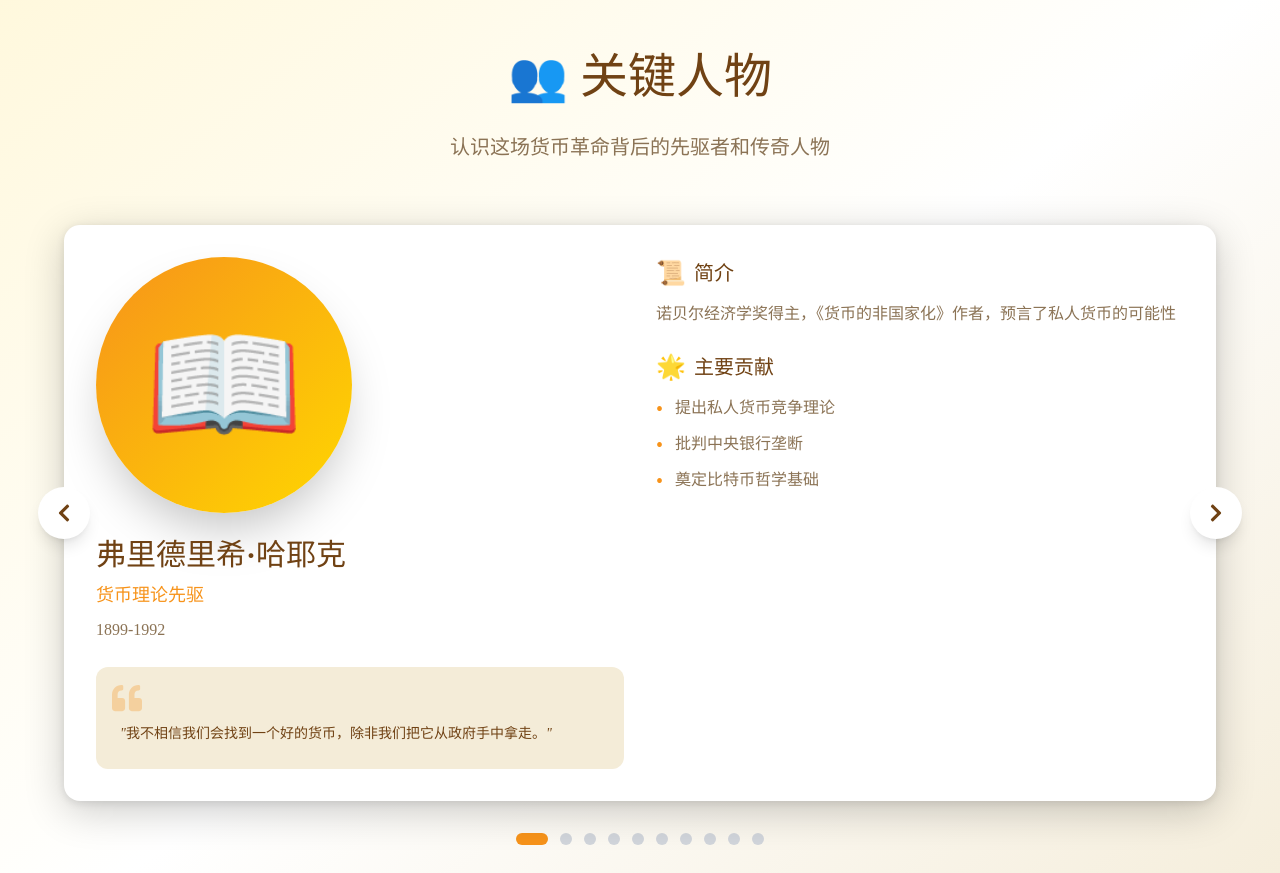
FiguresGallery › navigates to previous figure on prev button click
Click the button named "上一位人物".
click(64, 513)  # box [38,487,90,539]
(page scrolled)
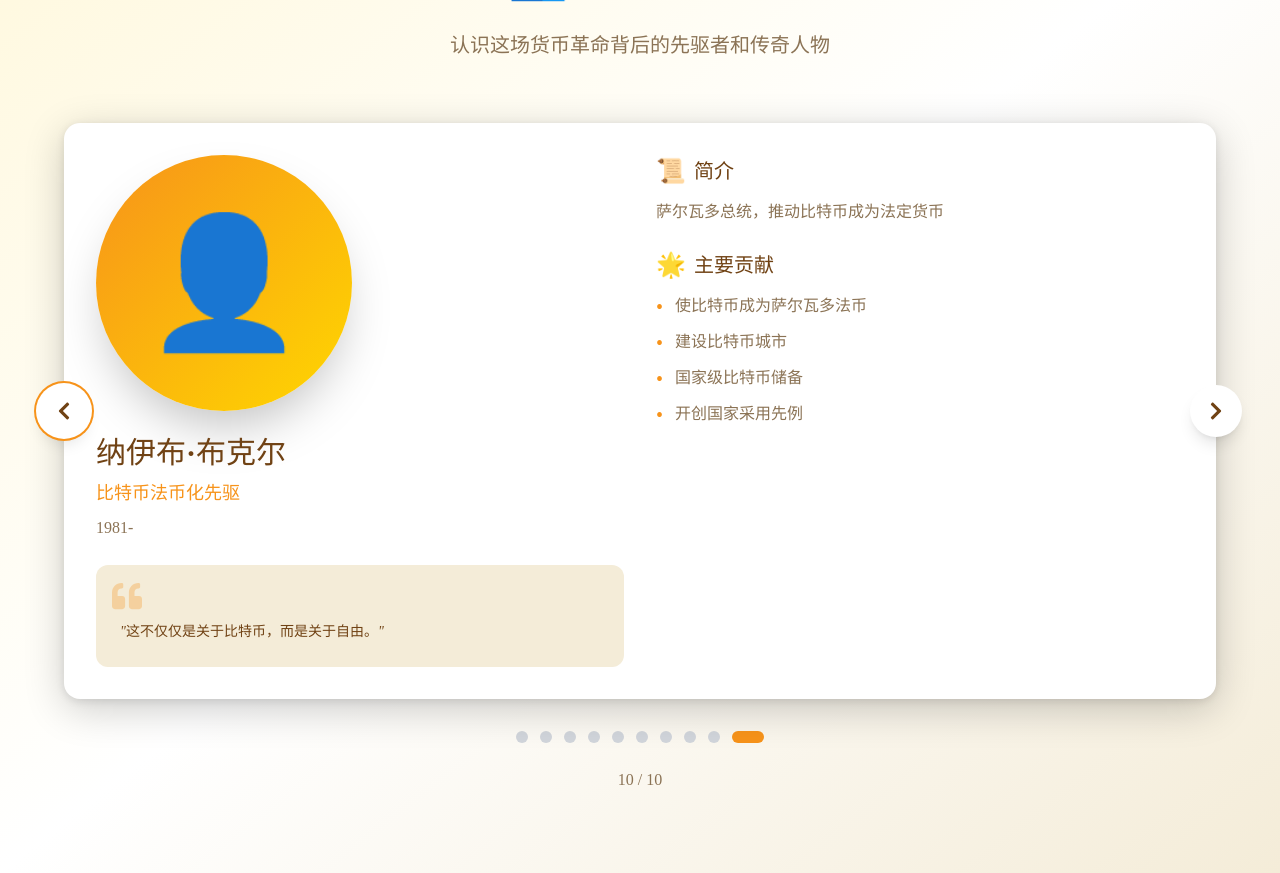
Expected: the heading "纳伊布·布克尔" is shown, [96,436,286,469]
